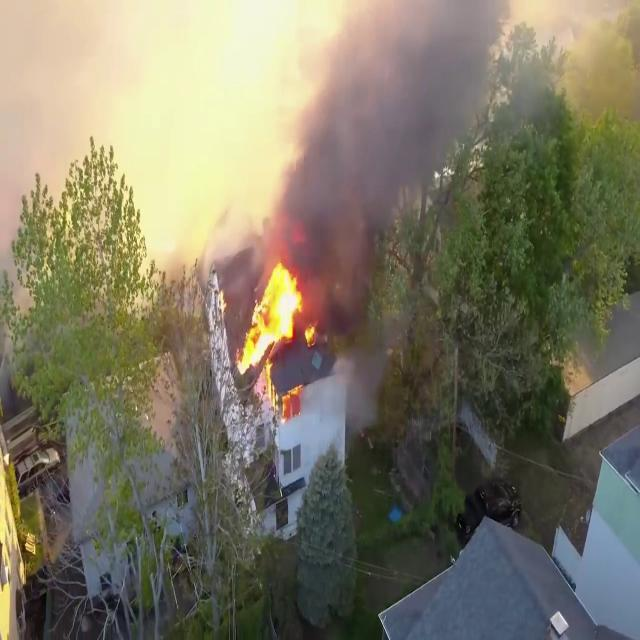Fire: (236, 256, 316, 402)
Smoke: (264, 0, 500, 283)
